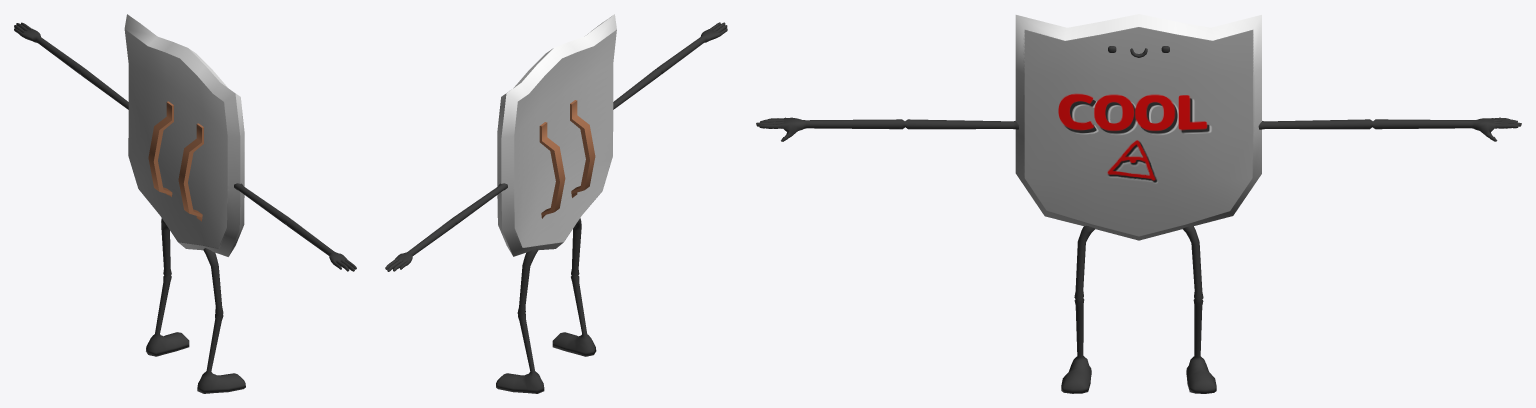
Rendered from Cool Shield Character.glb.
The picture shows the model from 3 angles, left to right: view 1: azimuth 30°, elevation 25°; view 2: azimuth 150°, elevation 25°; view 3: azimuth 270°, elevation 25°; orthographic projection. The views are drawn at different scales.
Visible parts, largest first — view 1: _100Avatars_195_CoolShield; view 2: _100Avatars_195_CoolShield; view 3: _100Avatars_195_CoolShield.
Part boxes in pixels (bbox=[...]): _100Avatars_195_CoolShield: bbox=[14, 14, 356, 393]; _100Avatars_195_CoolShield: bbox=[385, 14, 727, 393]; _100Avatars_195_CoolShield: bbox=[756, 14, 1521, 393].
Bounding box in the file's own units: 0.6332 × 3.9 × 7.41.
Materials: 1 (1 with a texture image).
